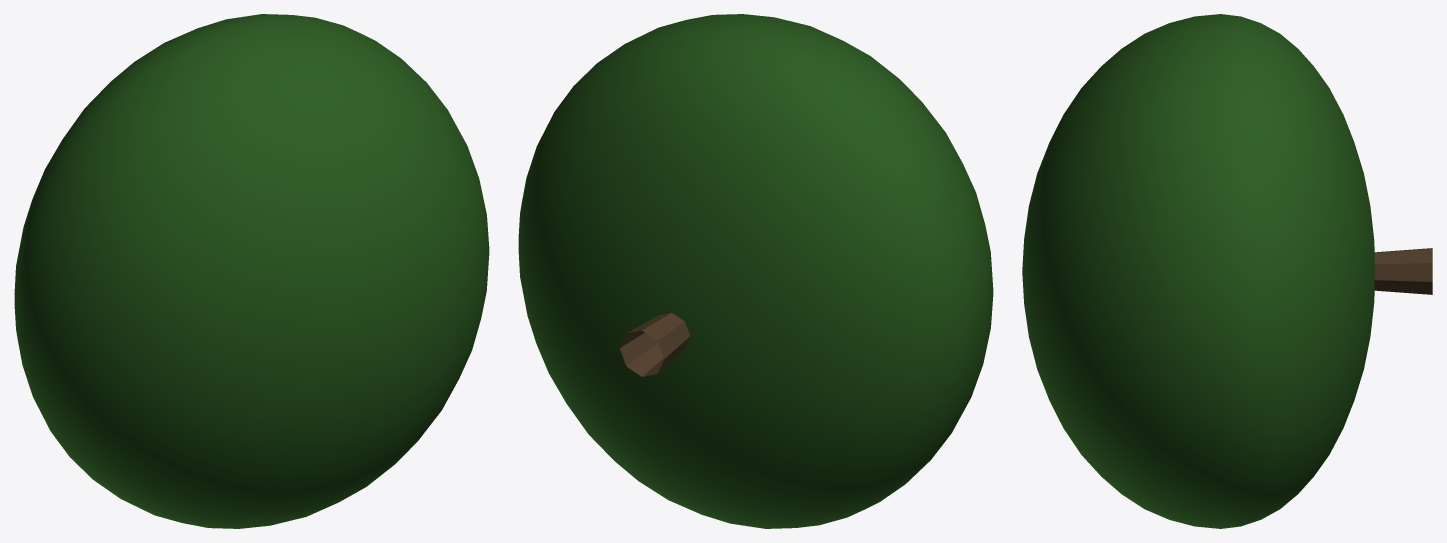
File: citrus_plain_c.obj
3 renders of one model, left to right at view 1: azimuth 30°, elevation 25°; view 2: azimuth 150°, elevation 25°; view 3: azimuth 270°, elevation 25°, orthographic. The views are drawn at different scales.
Parts seen in each view (by area): view 1: canopy; view 2: canopy, trunk; view 3: canopy, trunk.
Boxes of the visible parts, <box> form: canopy: <box>14,14,489,528</box>; canopy: <box>518,14,993,528</box>; trunk: <box>620,313,690,376</box>; canopy: <box>1022,14,1374,528</box>; trunk: <box>1374,248,1432,294</box>.
Bounding box in the file's own units: 3.06 × 3.24 × 2.56.
